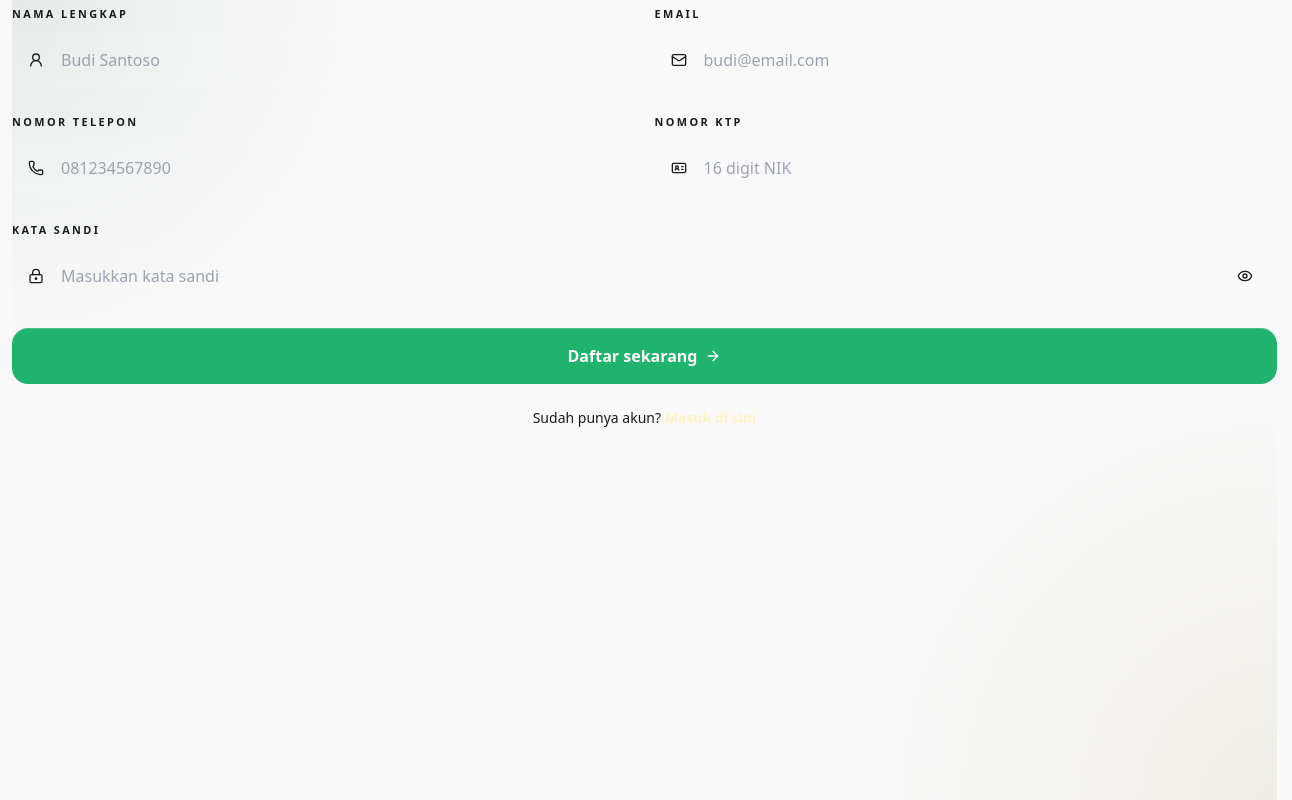
Test: LoginForm › uses the register visual feedback and password reveal interaction
Click the button named "tampilkan kata sandi" at (1245, 276), box [1229,260,1261,292]
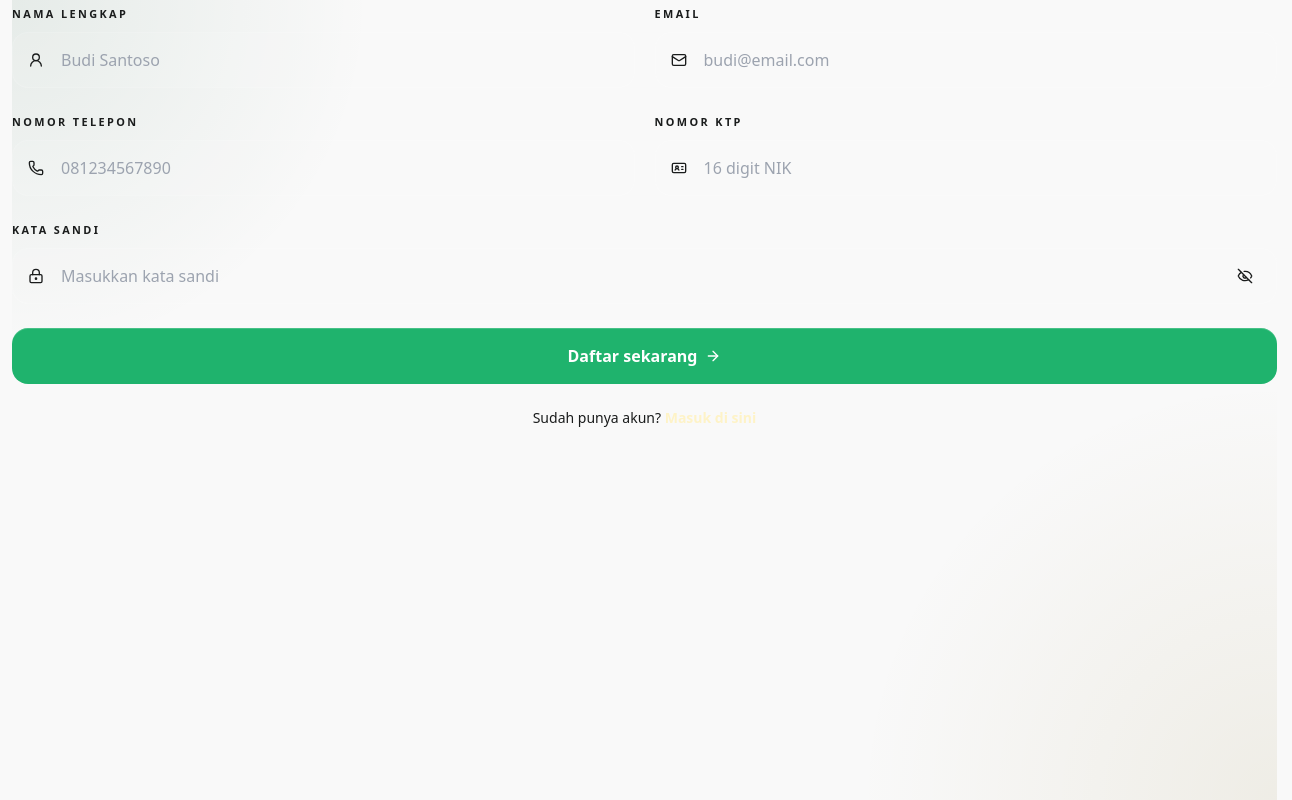
Type "Raras Maheswari Demo" into the field labelled "Nama lengkap" at (323, 60), box [12,32,634,88]
Type "raras.new@example.com" into the field labelled "Email" at (966, 60), box [654,32,1277,88]
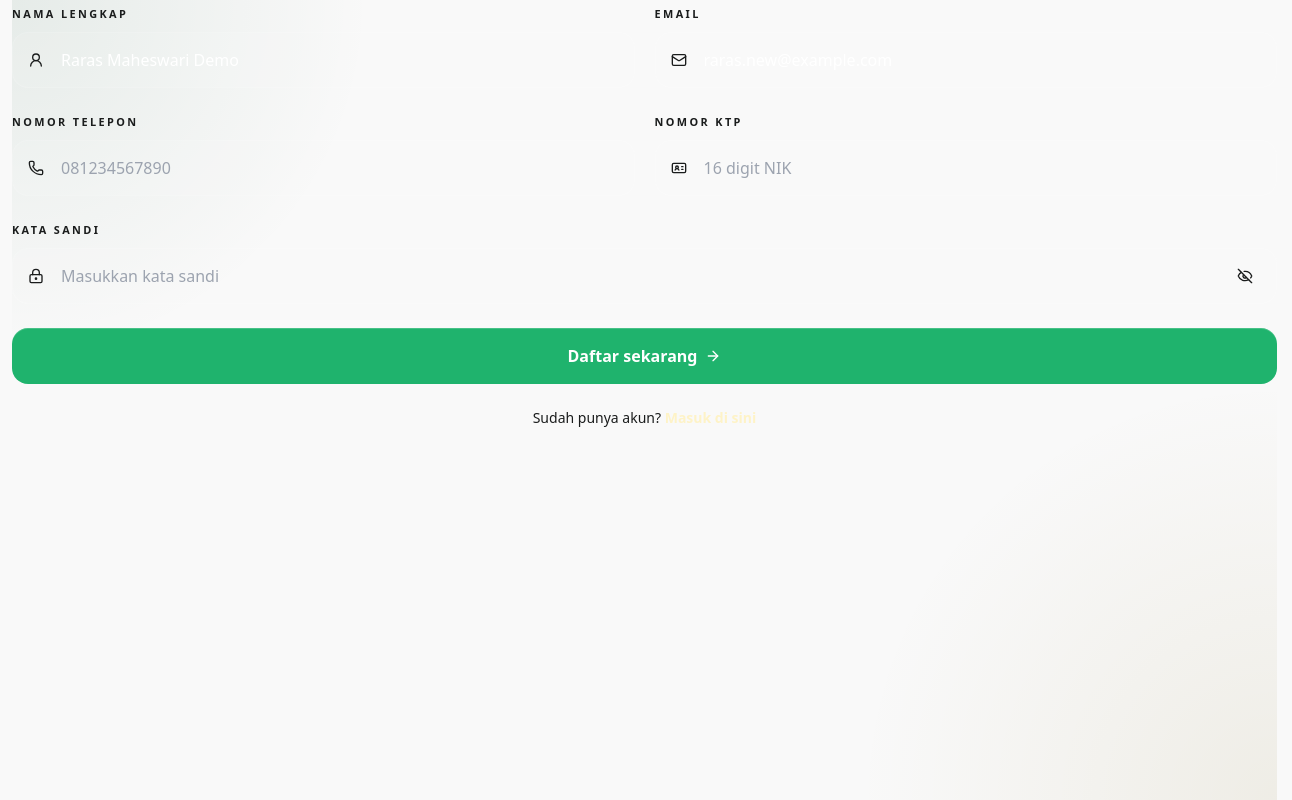
Type "081200009999" into the field labelled "Nomor telepon" at (323, 168), box [12,140,634,196]
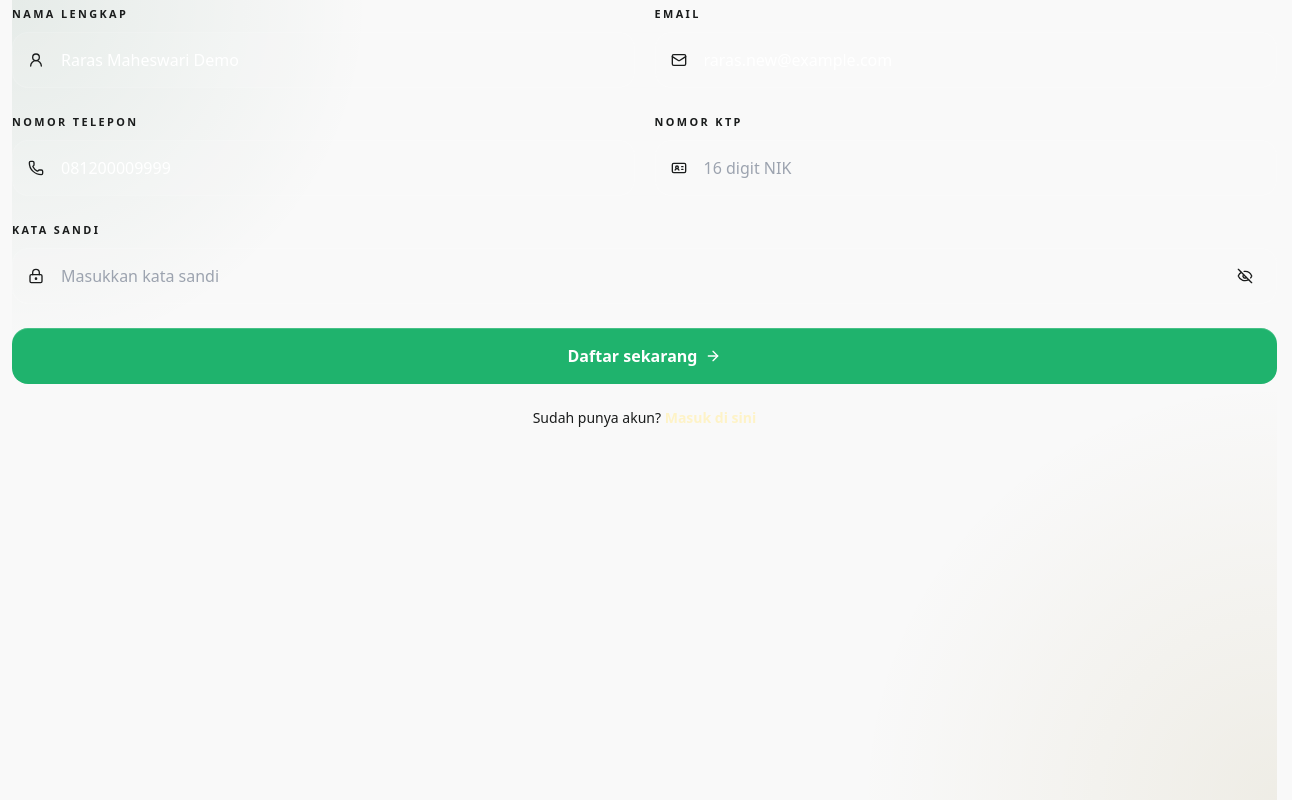
Type "7371121305260003" into the field labelled "Nomor KTP" at (966, 168), box [654,140,1277,196]
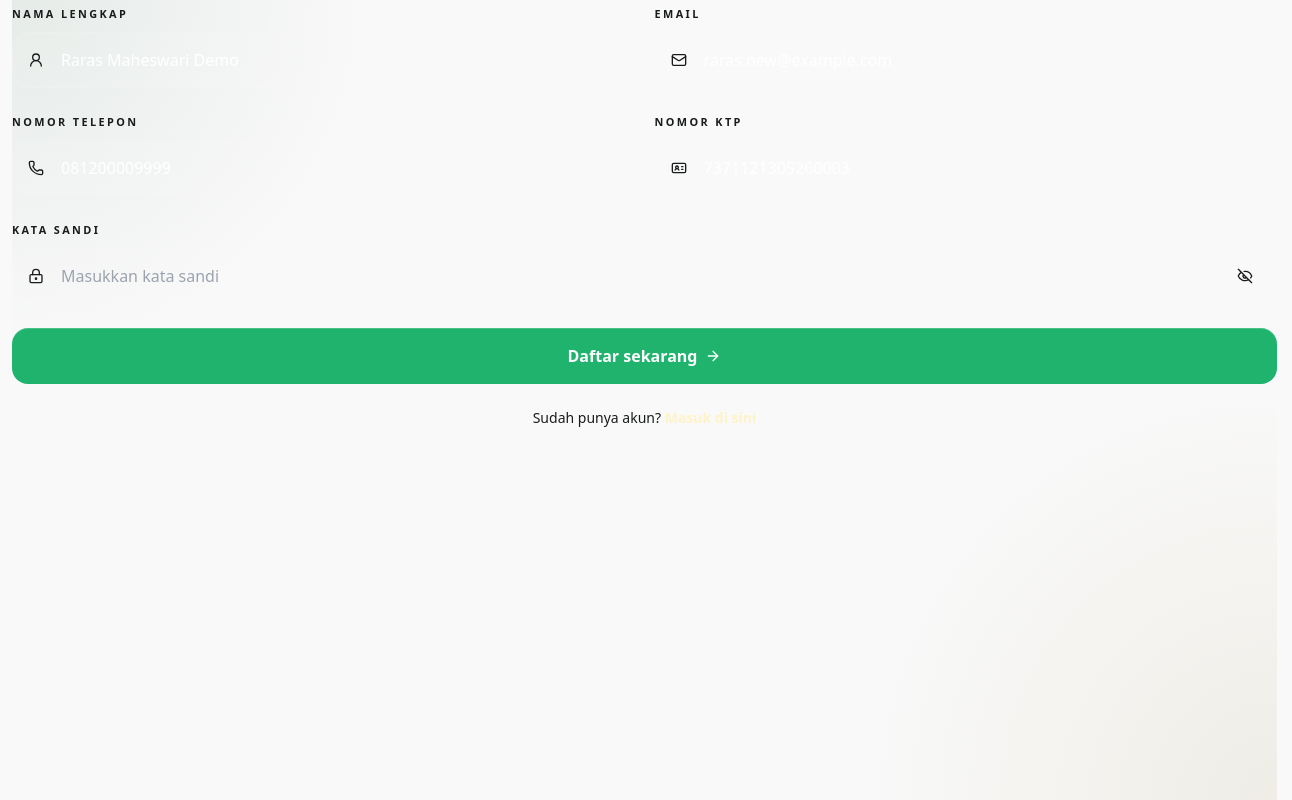
Type "password-rahasia" into the field labelled "Kata sandi" at (644, 276), box [12,248,1277,304]
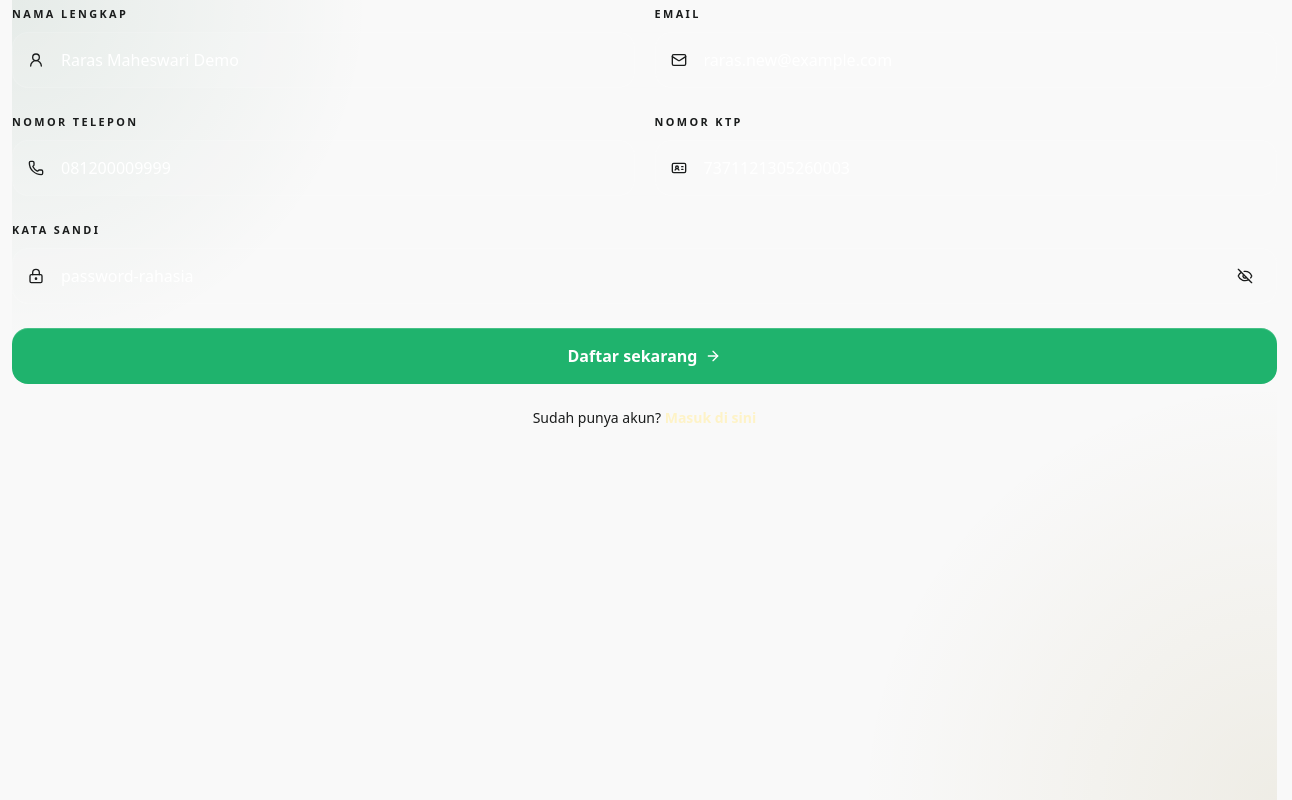
Click the button "Daftar sekarang" at (644, 356), box [12,328,1277,384]
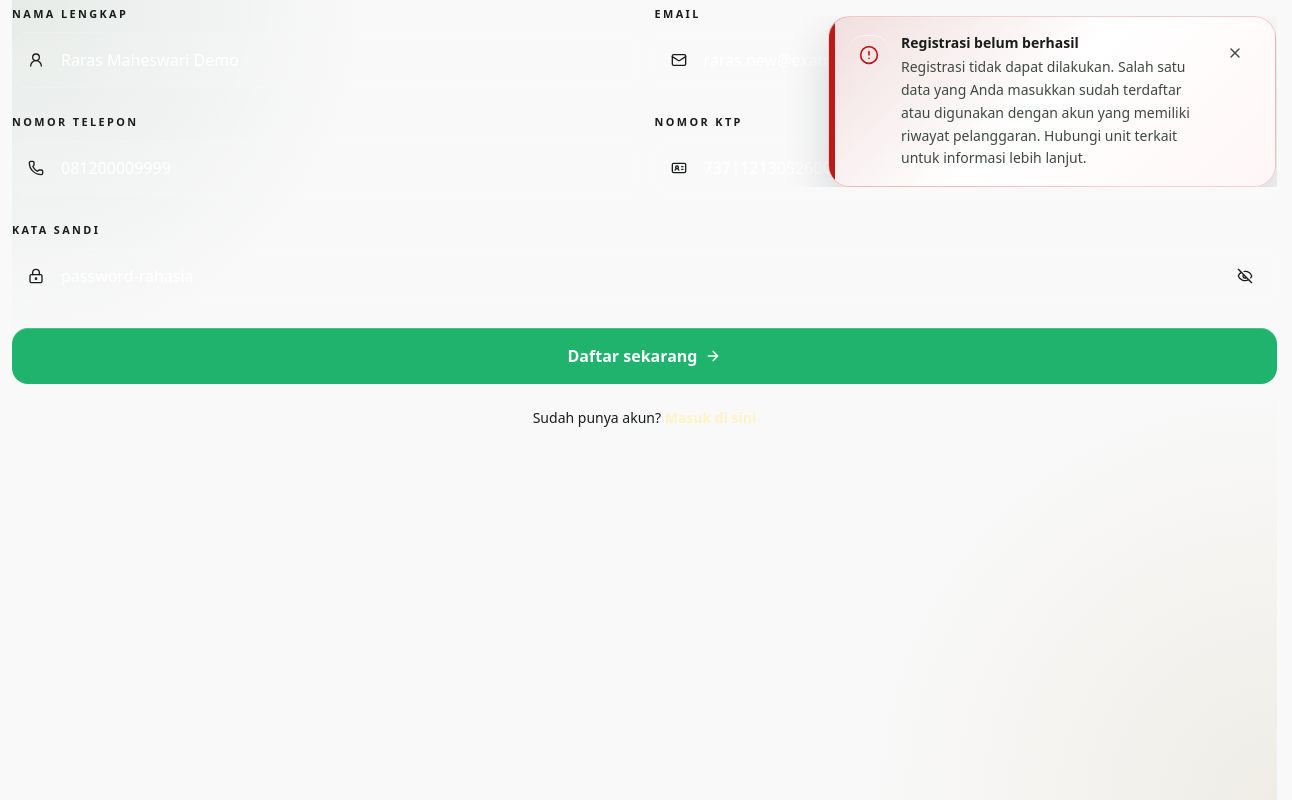
expect the message shows "Registrasi belum berhasil": met, box [901,33,1079,52]
